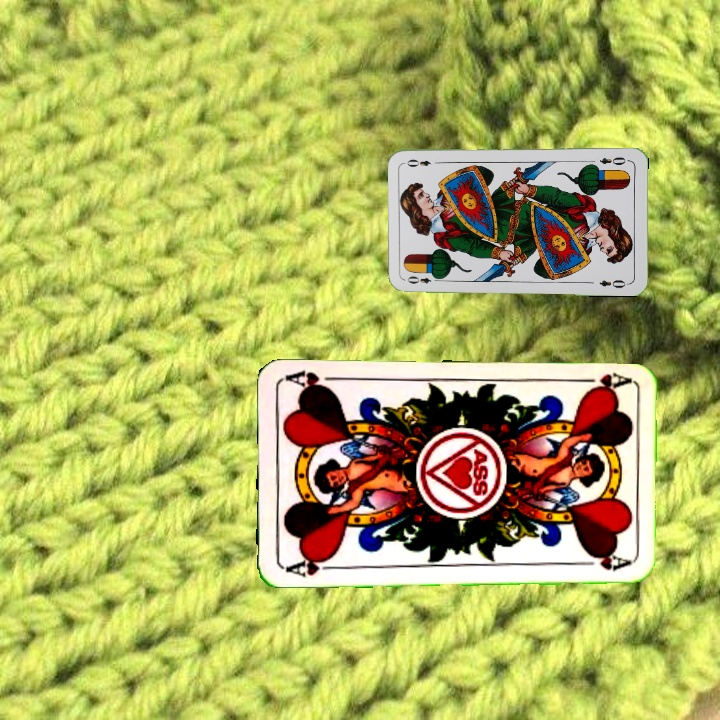EO: (403, 272, 443, 286), (596, 153, 631, 168)
HA: (281, 552, 340, 579), (572, 368, 631, 394)
